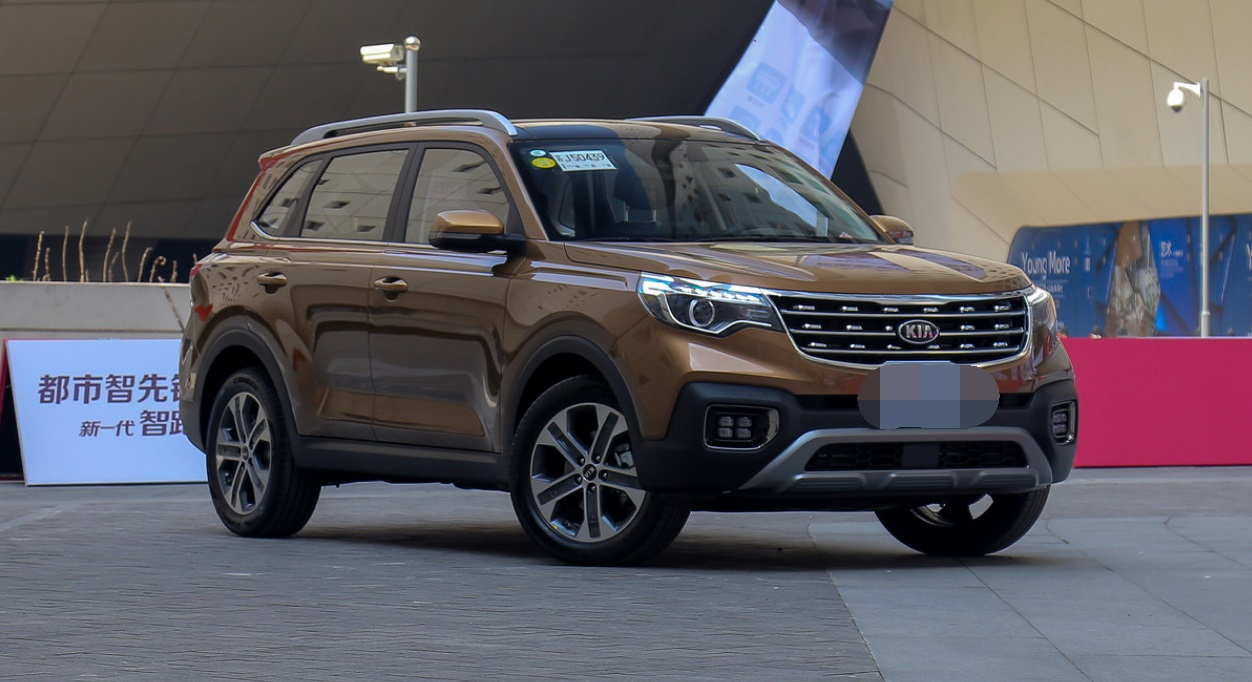SUV: (186, 104, 1083, 560)
